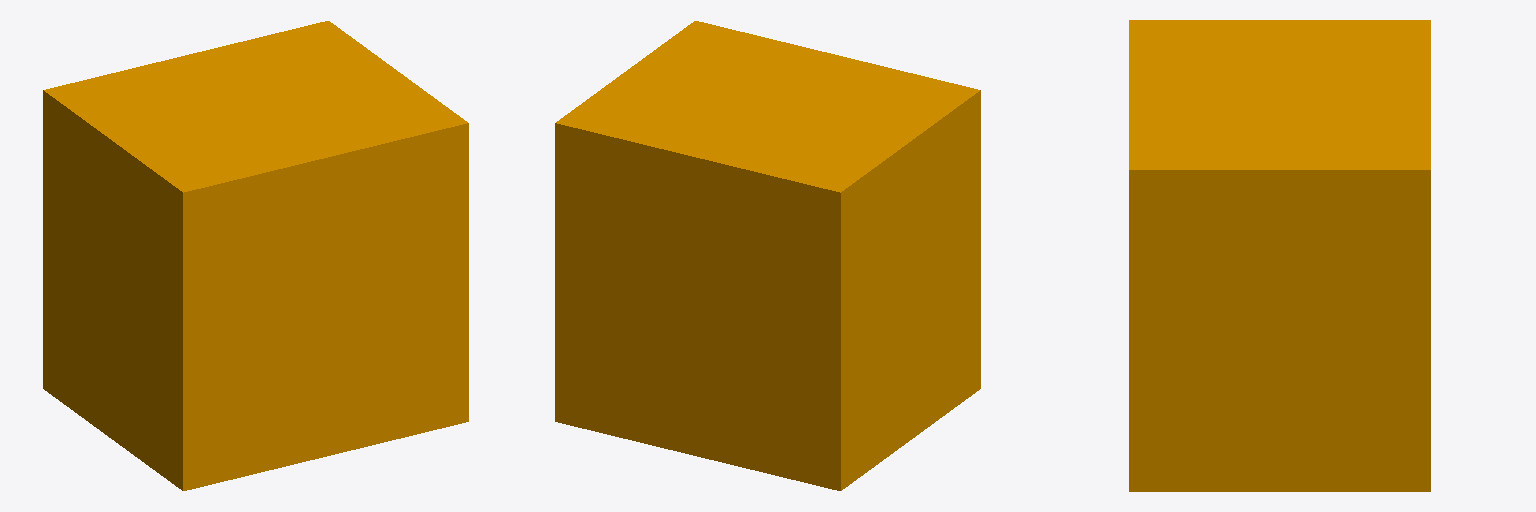
URDF robot description (object):
<robot name="object">
  <link name="object">
    <visual>
      <origin xyz="0 0 0" />
      <geometry>
        <box size="0.08000000000000002 0.068 0.08" />
      </geometry>
    </visual>

    <collision>
      <origin xyz="0 0 0" />
      <geometry>
        <box size="0.08000000000000002 0.068 0.08" />
      </geometry>
    </collision>

    <inertial>
      <mass value="0.05" />
      <inertia ixx="0.0001" ixy="0.0" ixz="0.0" iyy="0.0001" iyz="0.0" izz="0.0001" />
    </inertial>
  </link>
</robot>

--- Facts derived from the render (not from the file) ---
The picture shows the robot from 3 angles, left to right: view 1: azimuth 30°, elevation 25°; view 2: azimuth 150°, elevation 25°; view 3: azimuth 270°, elevation 25°; orthographic projection.
Robot: object — 1 links, 0 joints (none); root link object; default pose: all joints at 0.
Visible links, largest first — view 1: object; view 2: object; view 3: object.
Boxes of the visible links, bbox=[...] form: object: bbox=[43, 21, 468, 490]; object: bbox=[555, 21, 980, 490]; object: bbox=[1129, 20, 1430, 491].
Size in the robot's own frame: 0.08 by 0.068 by 0.08 metres.
Geometry: primitives only (box / cylinder / sphere), no mesh files.